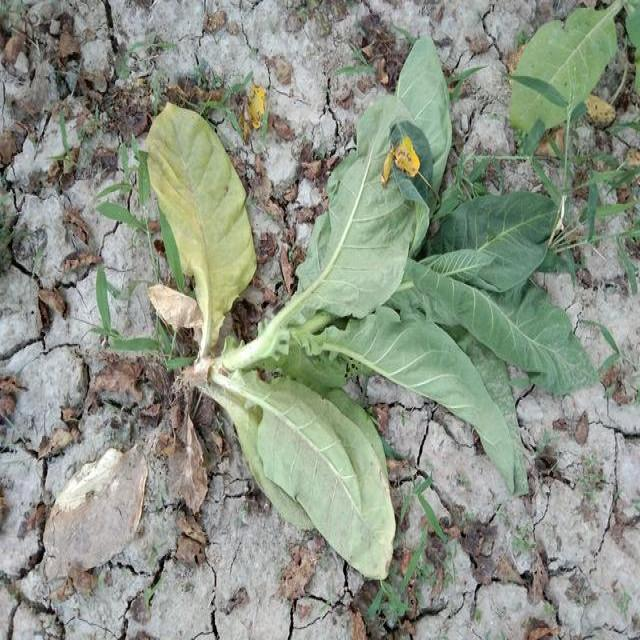crop: (146, 52, 594, 576)
